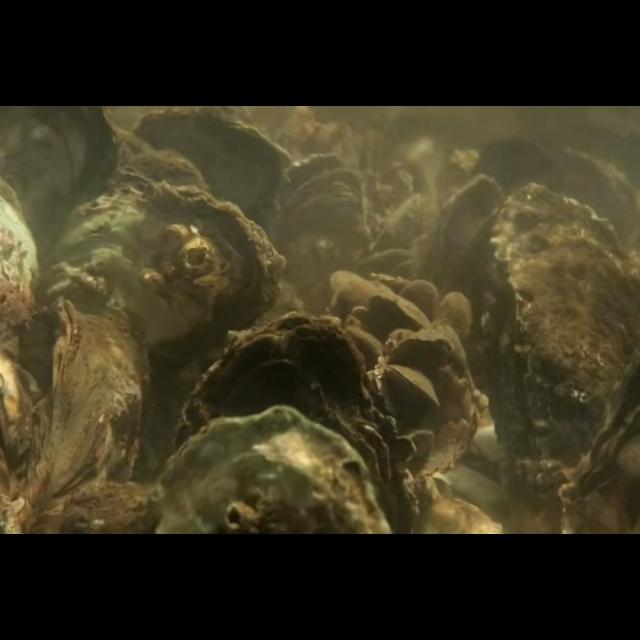Oyster-Closed: (52, 180, 286, 456), (177, 312, 417, 534), (480, 184, 640, 481), (154, 405, 392, 535), (385, 364, 439, 406), (390, 336, 454, 368)
Oyster-Indeterminate: (21, 296, 150, 534), (423, 172, 507, 328), (370, 292, 432, 328), (400, 280, 440, 328), (438, 292, 472, 342)
Oyster-Open: (268, 154, 364, 296)
